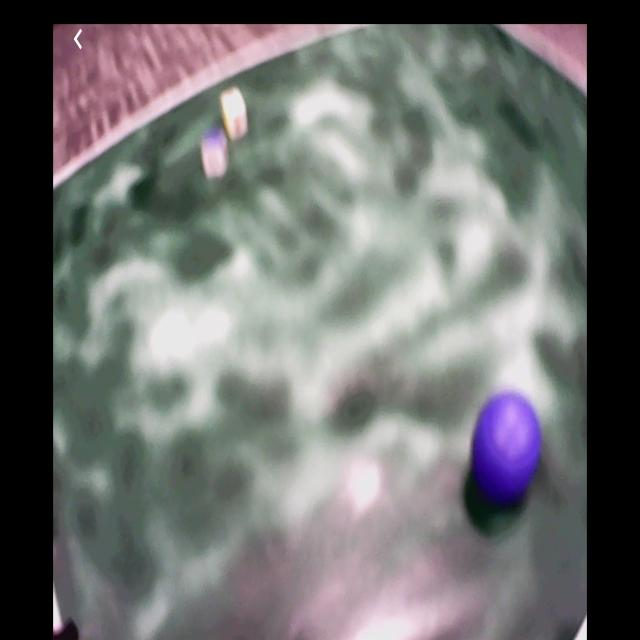ball: (473, 392, 541, 497)
